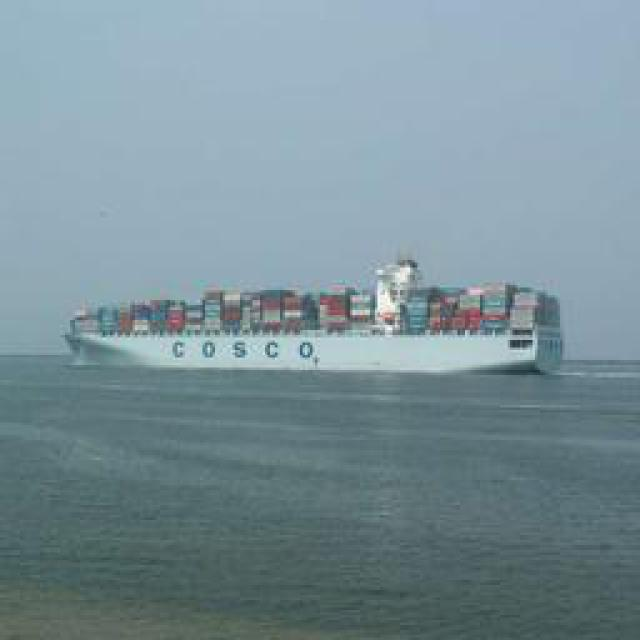Ship: (61, 252, 561, 382)
